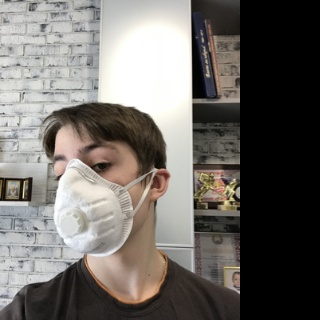with_mask: (52, 139, 144, 258)
